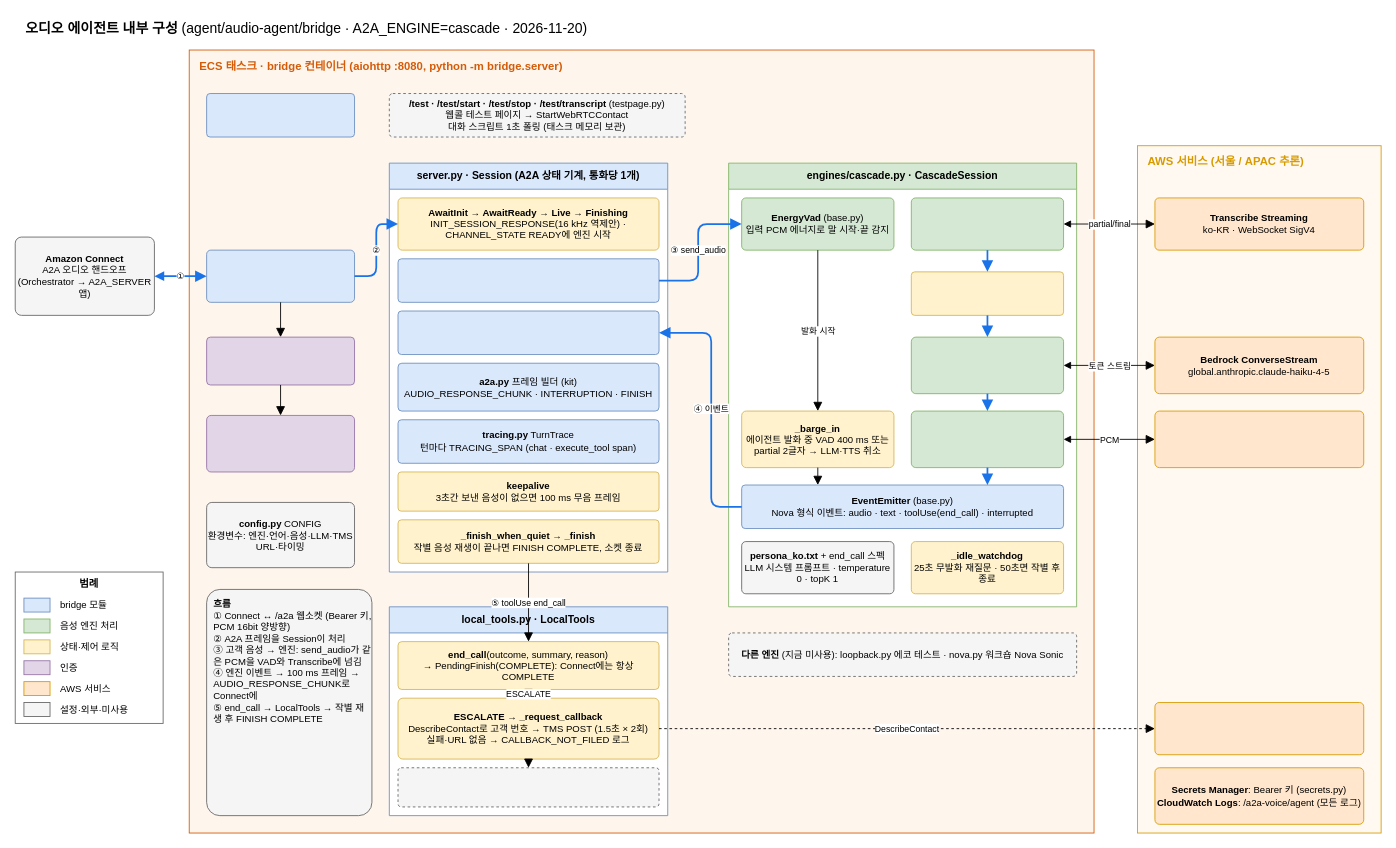
This 1396x848 diagram has some shape labels left out. The shapes that lost their labels are listed below. From the top down, each one's centre as x and y in pixels, then its label:
point (280, 115): GET /health ALB 상태 확인
point (987, 223): TranscribeStream (transcribe_ws.py) 입력 PCM → partial / final
point (280, 275): GET /a2a WebSocket 업그레이드
point (528, 280): FragmentReassembler (kit) 입력 PCM 조각 재조립 → send_audio
point (987, 293): 턴 종료 판단 final 뒤 150 ms 새 partial 없음
point (528, 332): audio.py Rechunker 출력 PCM을 100 ms 프레임으로
point (280, 360): bearer.py Bearer 키 비교 (불일치 401)
point (987, 365): _respond / _llm_round ConverseStream 토큰 → ThinkingFilter → SentenceSplitter
point (280, 443): secrets.py SecretCache Secrets Manager에서 키 조회 후 캐시
point (987, 439): PollyTts (base.py) 문장마다 합성 · pcm 16 kHz A2A_TTS_RATE → SSML prosody 속도
point (1259, 439): Polly generative · Seoyeon · 115%
point (1259, 728): Connect API DescribeContact (고객 번호)
point (528, 787): TMS mock (A2A_TMS_URL=mock) 0.5초 후 {"status": "received"}
